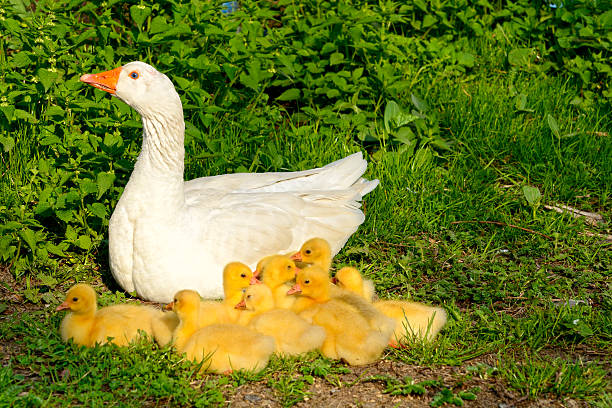goose: (79, 61, 369, 296)
